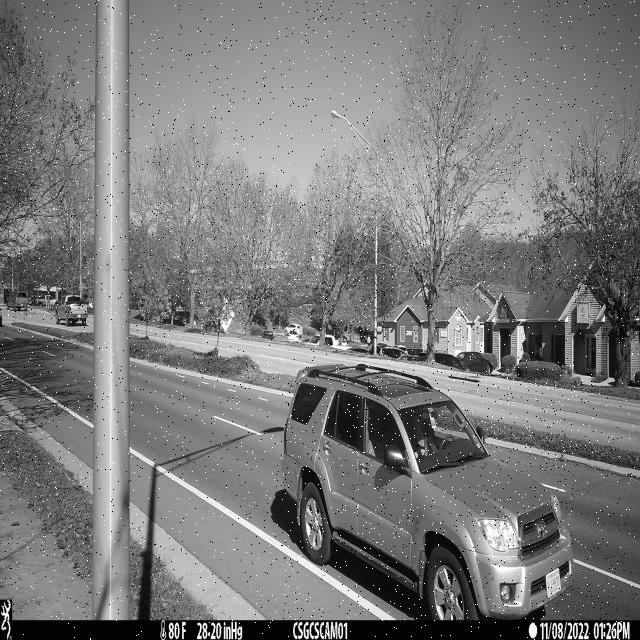SUV: (282, 363, 573, 620)
